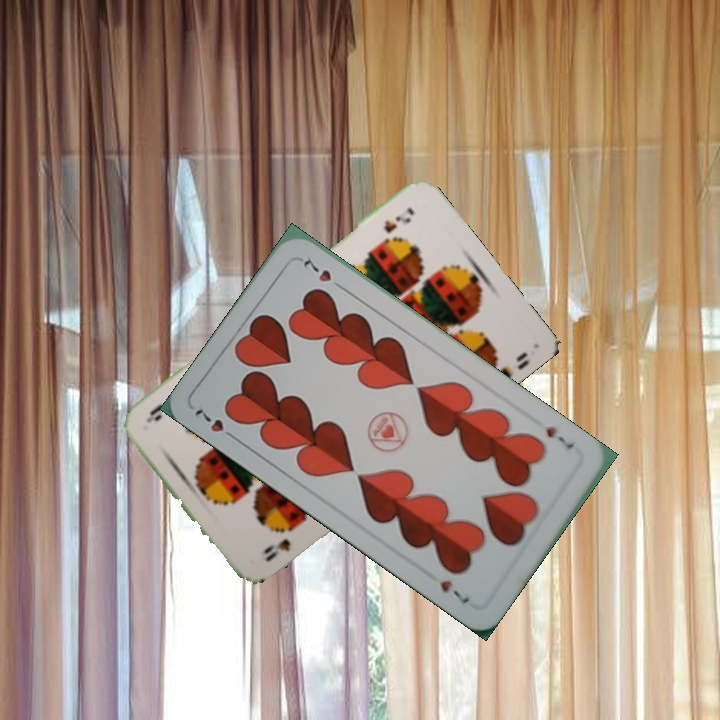H7: (190, 404, 241, 444), (541, 421, 577, 453)
S9: (259, 520, 301, 565), (380, 203, 417, 236)
